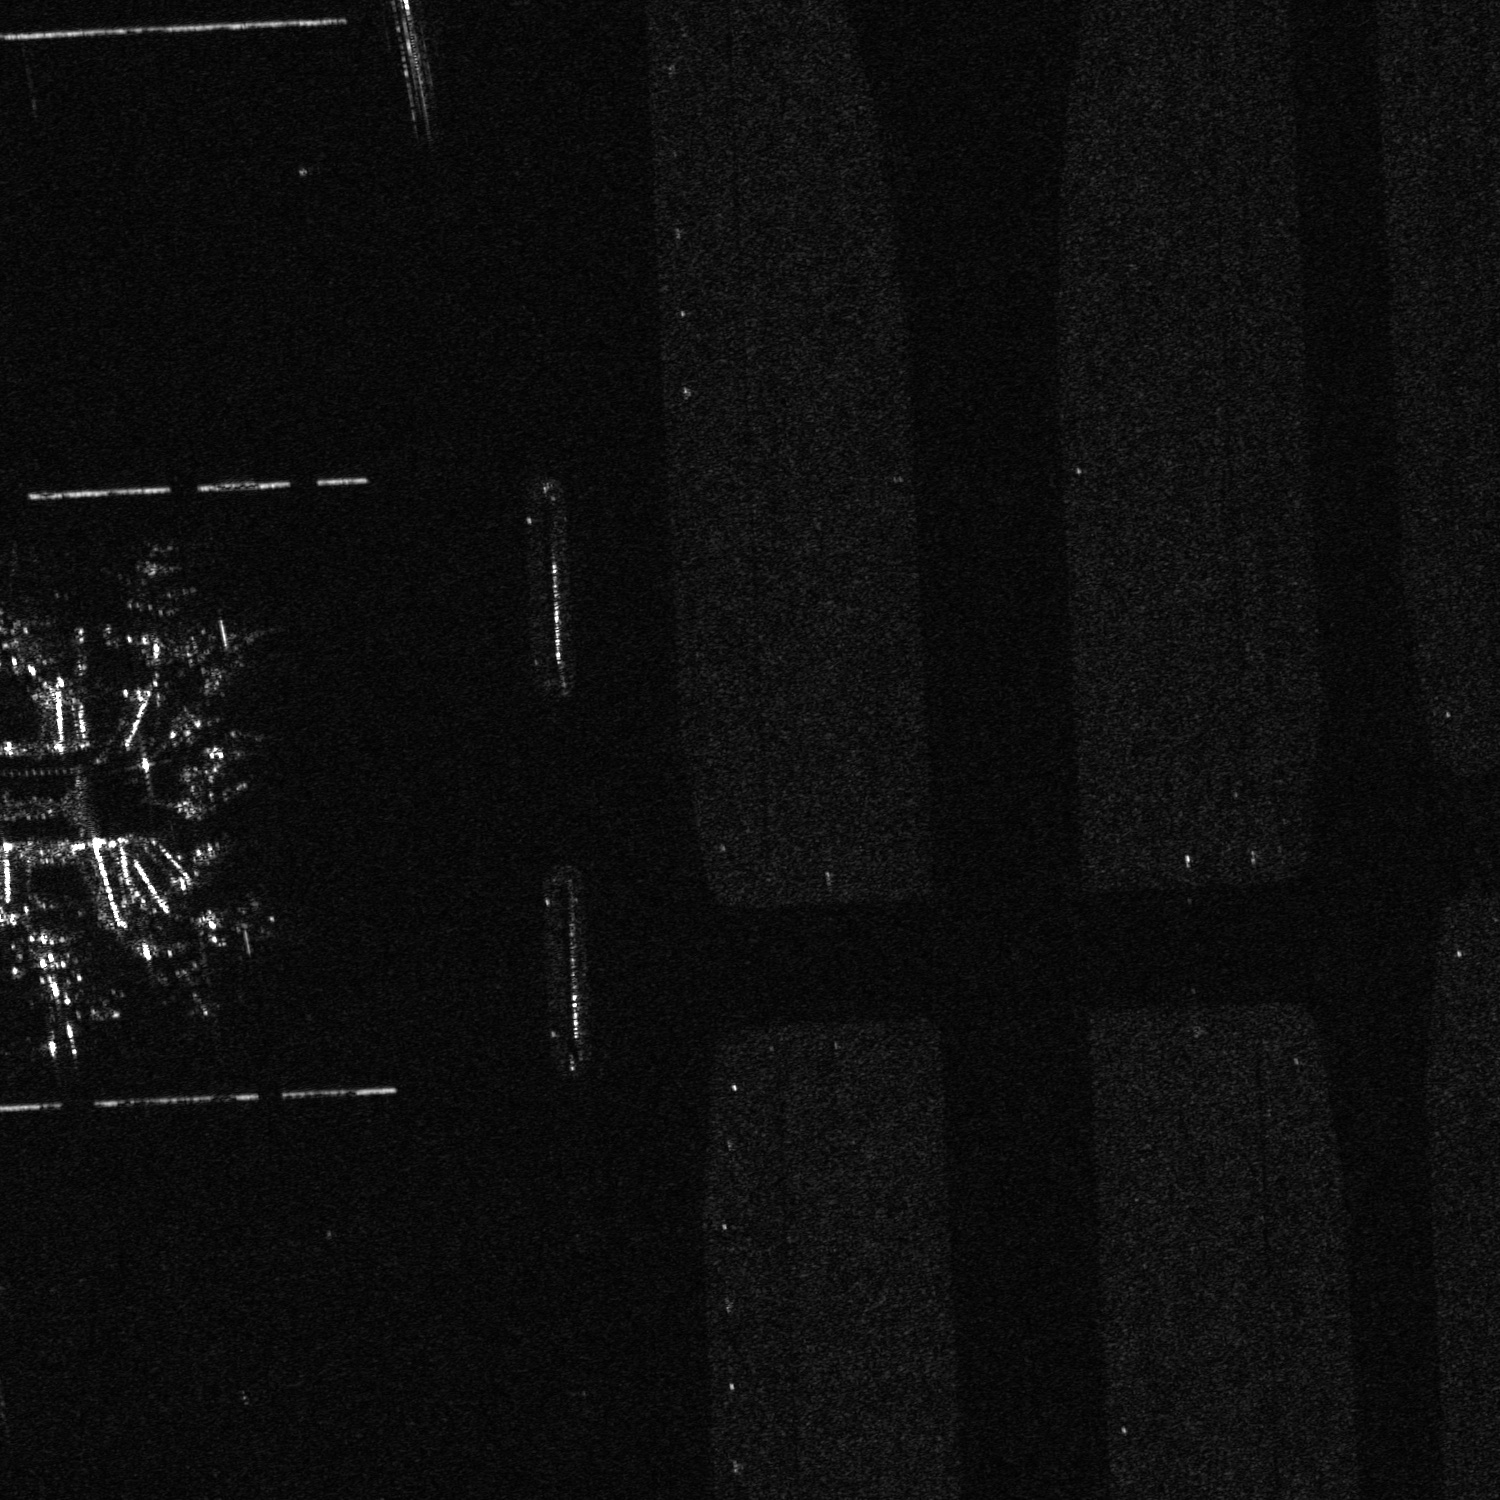A320/321: (89, 534, 202, 651), (15, 944, 96, 1060), (173, 885, 284, 967)
Boeing737: (130, 933, 227, 1018)
